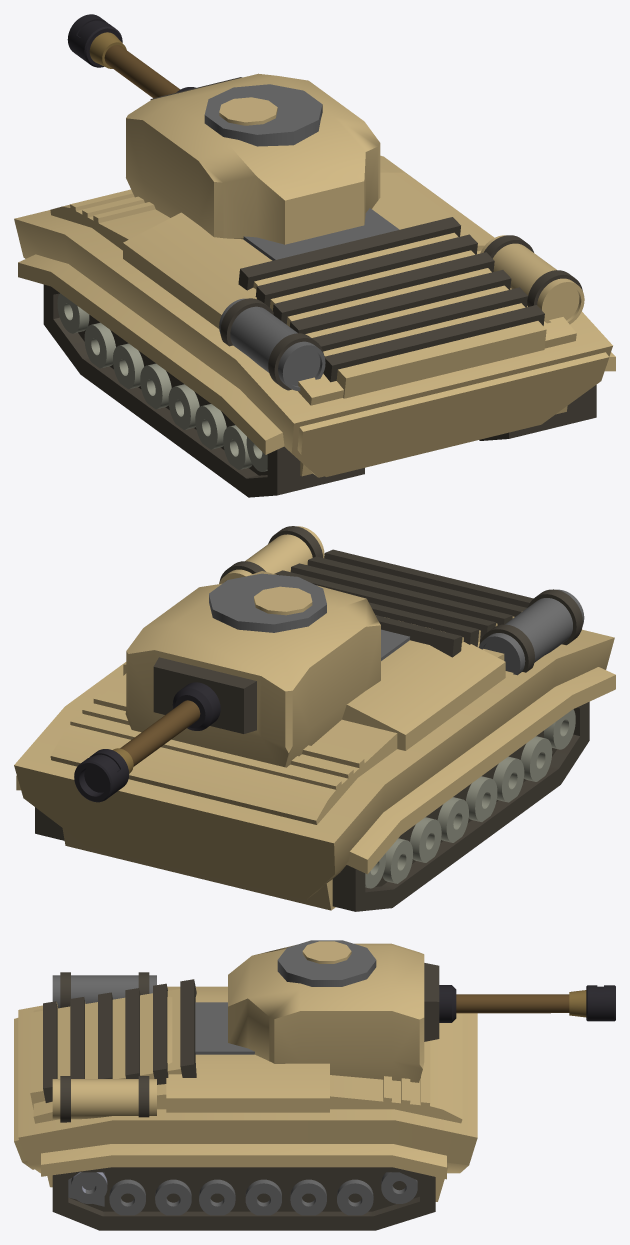
File: tower_9.fbx
The picture shows the model from 3 angles, top to bottom: view 1: azimuth 30°, elevation 25°; view 2: azimuth 150°, elevation 25°; view 3: azimuth 270°, elevation 25°; orthographic projection. The views are drawn at different scales.
Parts seen in each view (by area): view 1: 圆柱_2; view 2: 圆柱_2; view 3: 圆柱_2.
Part boxes in pixels (x1=…): 圆柱_2: x1=14, y1=14, x2=615, y2=497; 圆柱_2: x1=14, y1=526, x2=615, y2=911; 圆柱_2: x1=14, y1=940, x2=615, y2=1230.
Bounding box in the file's own units: 61.26 × 42.18 × 111.
